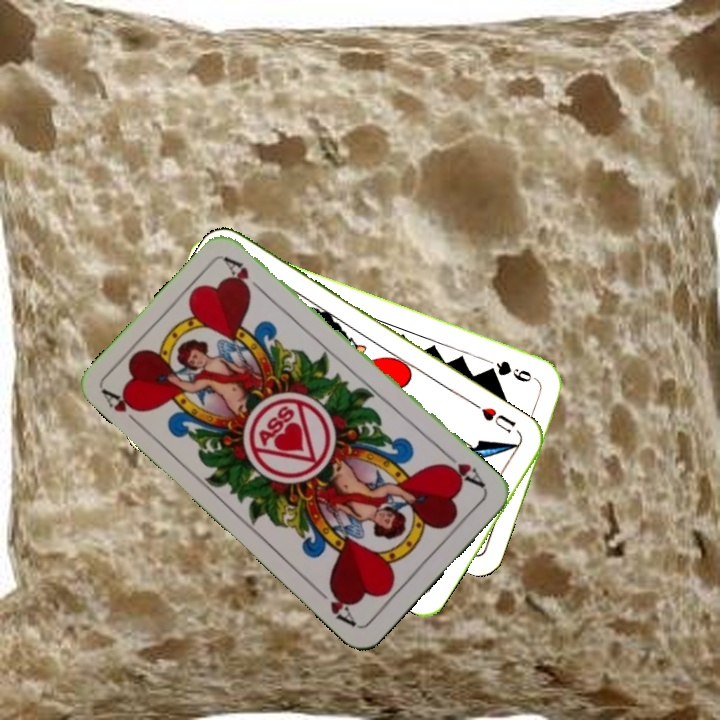G9: (483, 356, 541, 385)
HA: (436, 447, 488, 491), (99, 385, 147, 432)
HU: (477, 403, 518, 436)
